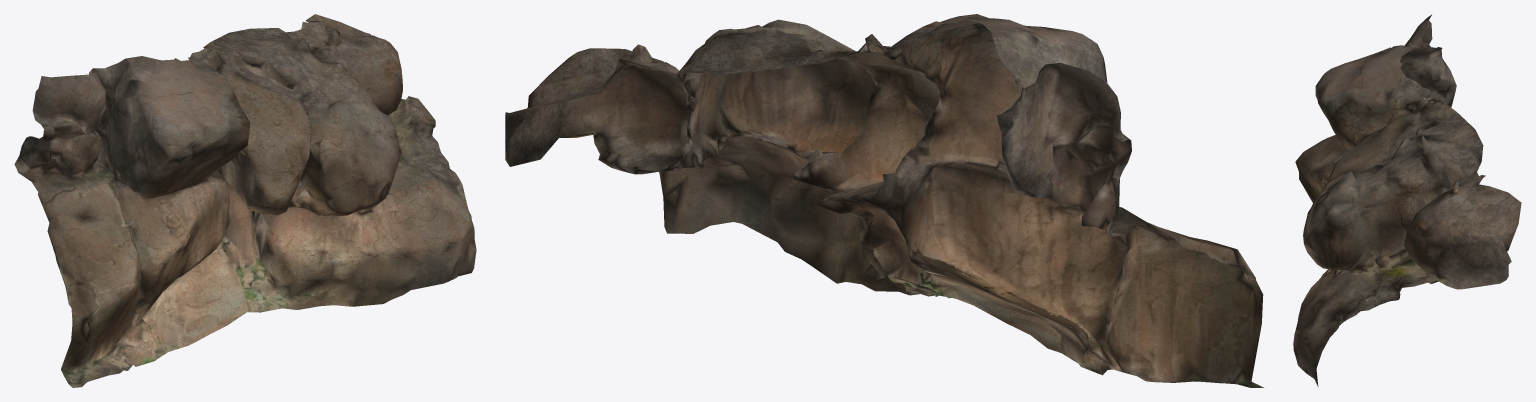
File: cliff.glb
3 renders of one model, left to right at view 1: azimuth 30°, elevation 25°; view 2: azimuth 150°, elevation 25°; view 3: azimuth 270°, elevation 25°, orthographic. The views are drawn at different scales.
Parts seen in each view (by area): view 1: drone_rock_01; view 2: drone_rock_01; view 3: drone_rock_01.
Boxes of the visible parts, x1=… form: drone_rock_01: x1=14, y1=14, x2=476, y2=387; drone_rock_01: x1=505, y1=14, x2=1263, y2=387; drone_rock_01: x1=1293, y1=14, x2=1521, y2=386.
Bounding box in the file's own units: 7.34 × 4.4 × 3.89.
Materials: 1 (1 with a texture image).
